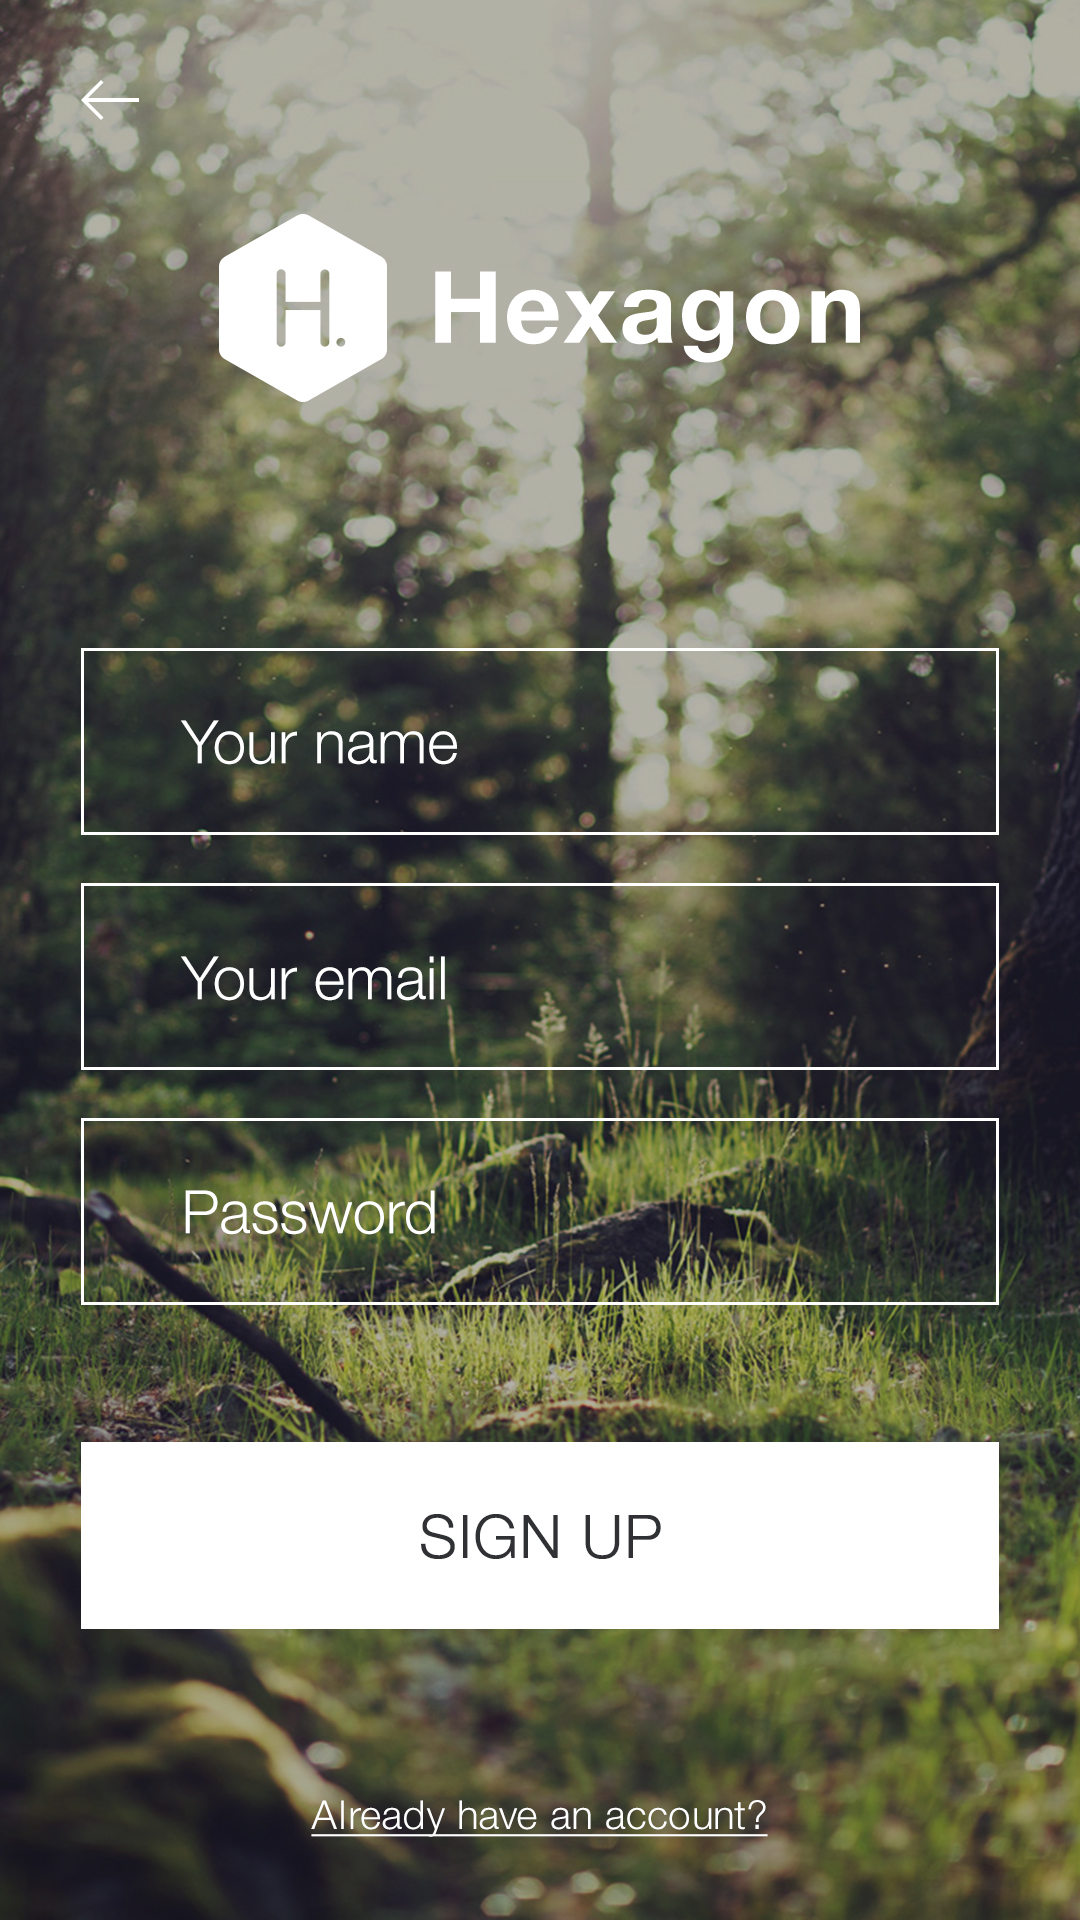BackgroundImage: (1, 1, 1080, 1920)
EditText: (80, 647, 1000, 836), (80, 884, 1000, 1071), (80, 1118, 1000, 1305)
Icon: (80, 80, 140, 123)
Image: (219, 214, 388, 404)
Text: (434, 272, 861, 364), (311, 1799, 769, 1838), (181, 719, 459, 766), (179, 955, 447, 1002), (185, 1189, 438, 1236)
TextButton: (80, 1443, 1000, 1630)
